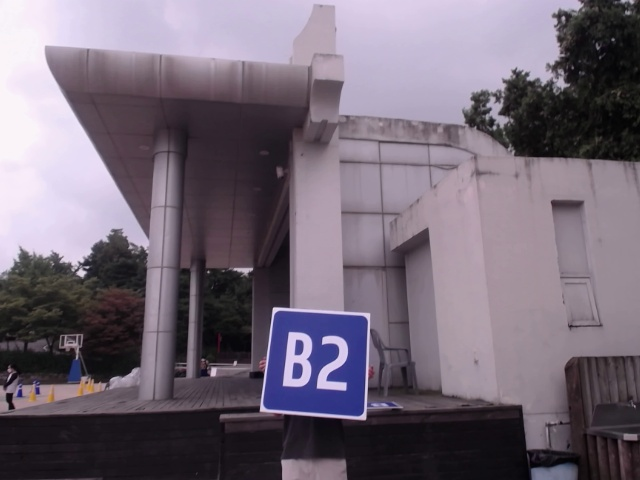delivery_b2: (259, 306, 370, 418)
